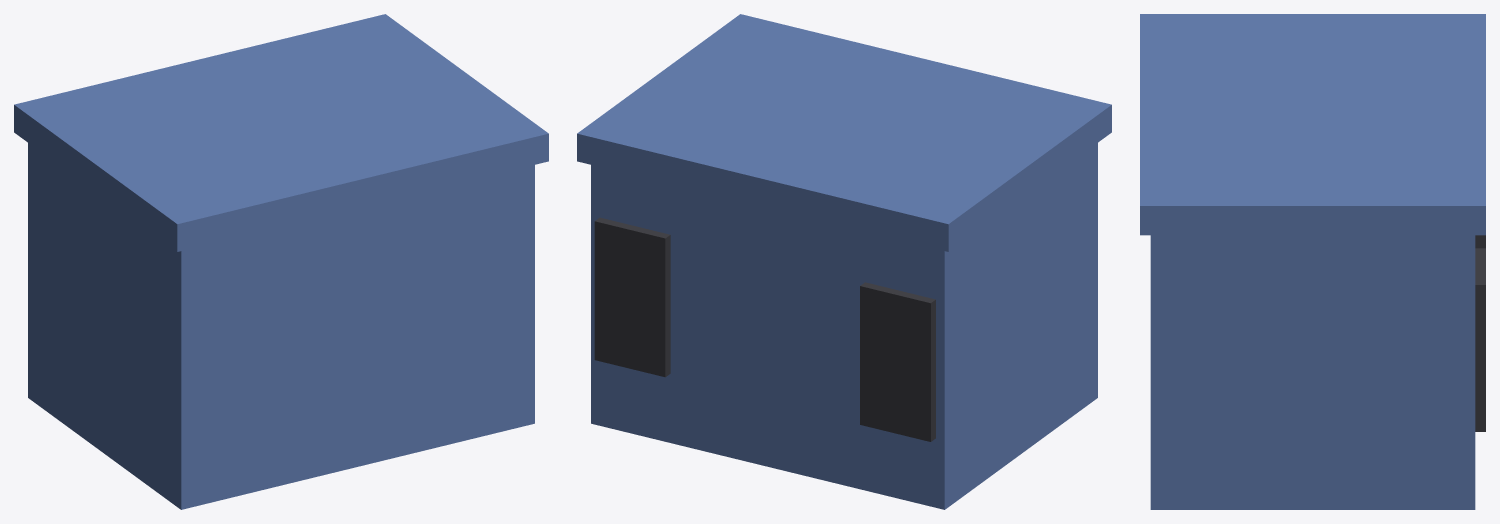
The model's file is prop_container.glb.
The picture shows the model from 3 angles, left to right: view 1: azimuth 30°, elevation 25°; view 2: azimuth 150°, elevation 25°; view 3: azimuth 270°, elevation 25°; orthographic projection. The views are drawn at different scales.
Parts seen in each view (by area): view 1: container; view 2: container; view 3: container.
Boxes of the visible parts, x1,y1,x2,y2 form: container: (14, 14, 548, 509); container: (577, 14, 1111, 509); container: (1140, 14, 1485, 509).
Size of the model in its own units: 0.84 by 0.63 by 0.64.
